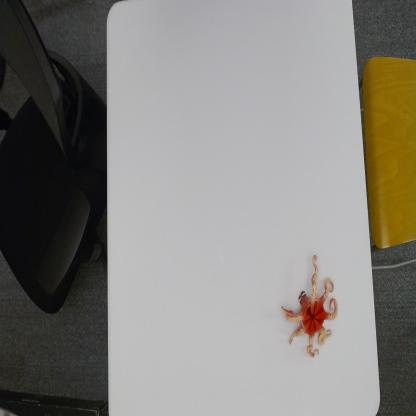Octopus: (281, 252, 338, 361)
